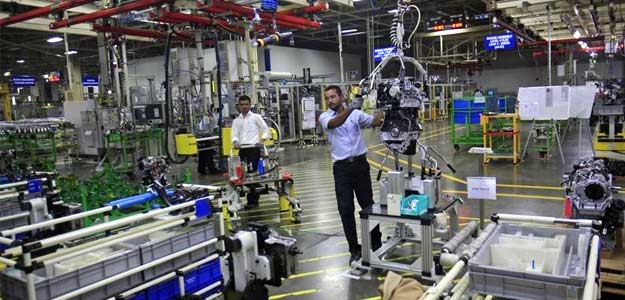noepi: (317, 81, 394, 264), (228, 95, 274, 175)
